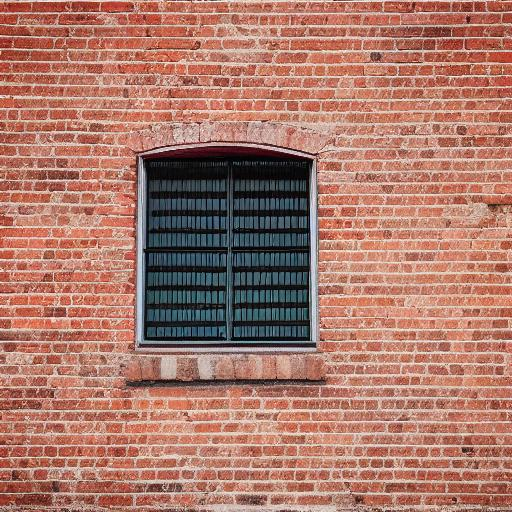Window: (125, 123, 324, 383)
